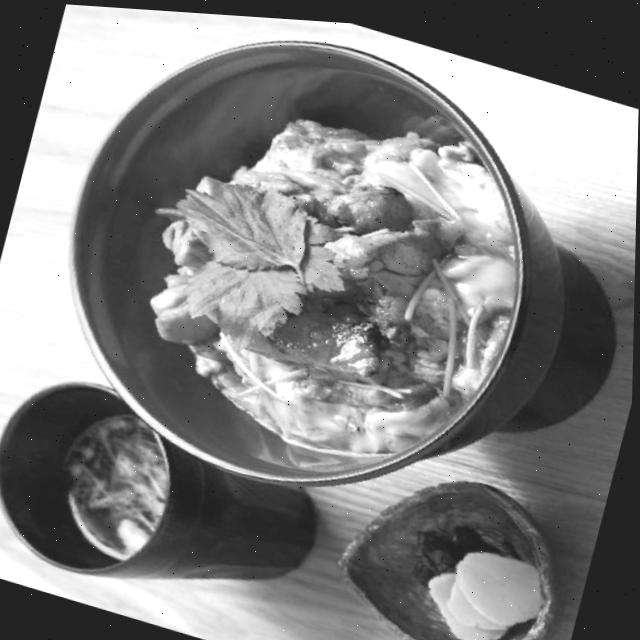米饭主食: (15, 1, 640, 562)
